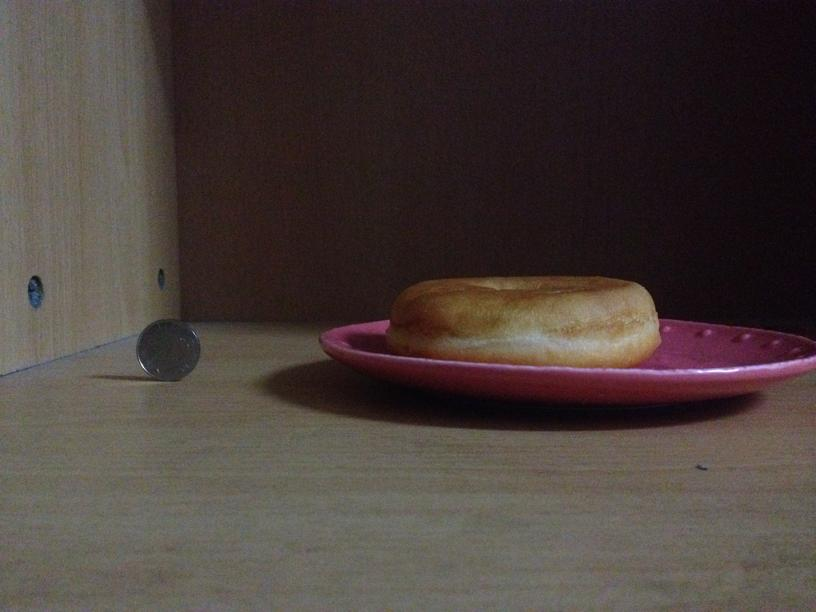coin: (128, 316, 130, 319)
doughnut: (394, 270, 661, 366)
